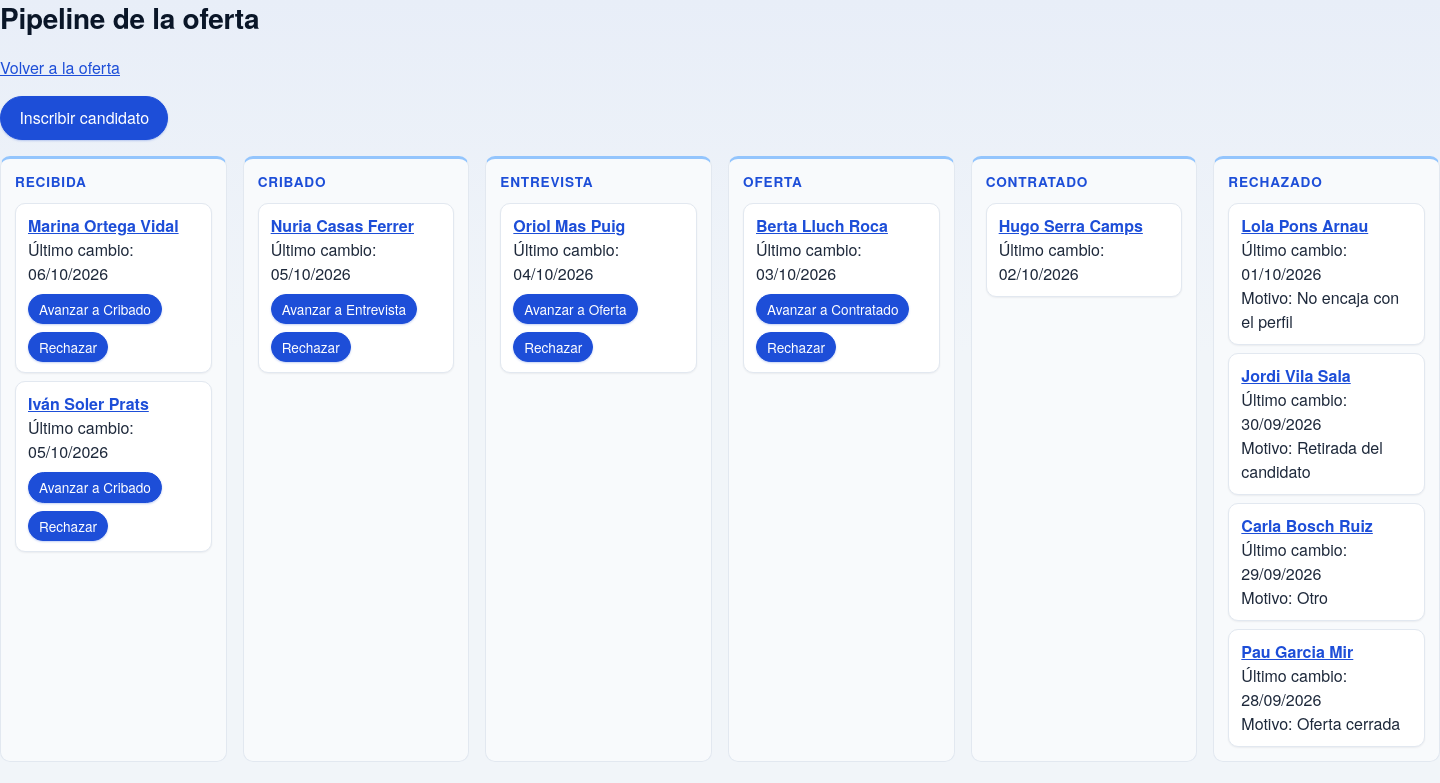
Test case: PipelineScreen: panel y búsqueda (RF-08) › «Buscar» envía la búsqueda y muestra «Buscando candidatos…» mientras responde
Click the button "Inscribir candidato".
click(84, 118)  # box [0,96,168,140]
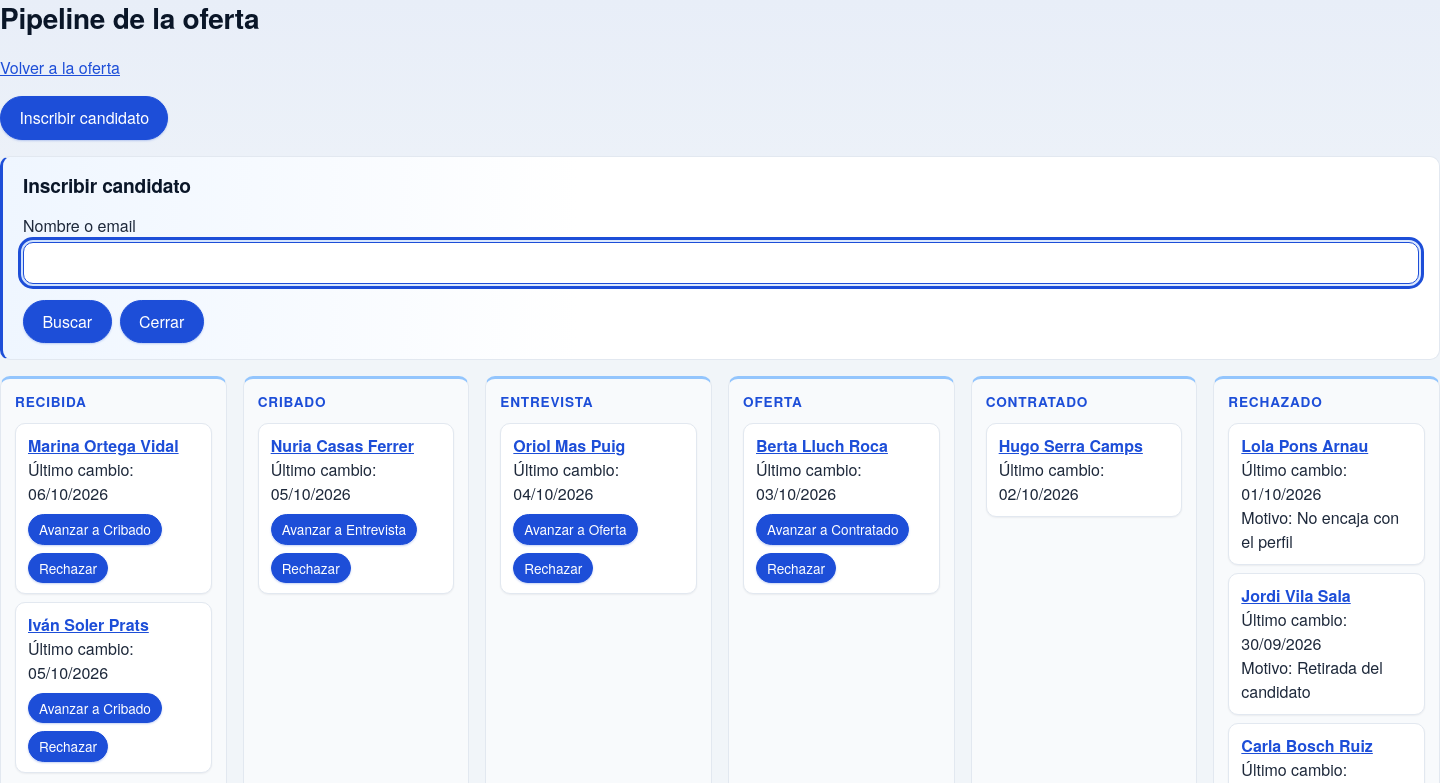
Type "ana" into the search field labelled "Nombre o email".
click(721, 263); type("ana")  # box [23,242,1419,284]
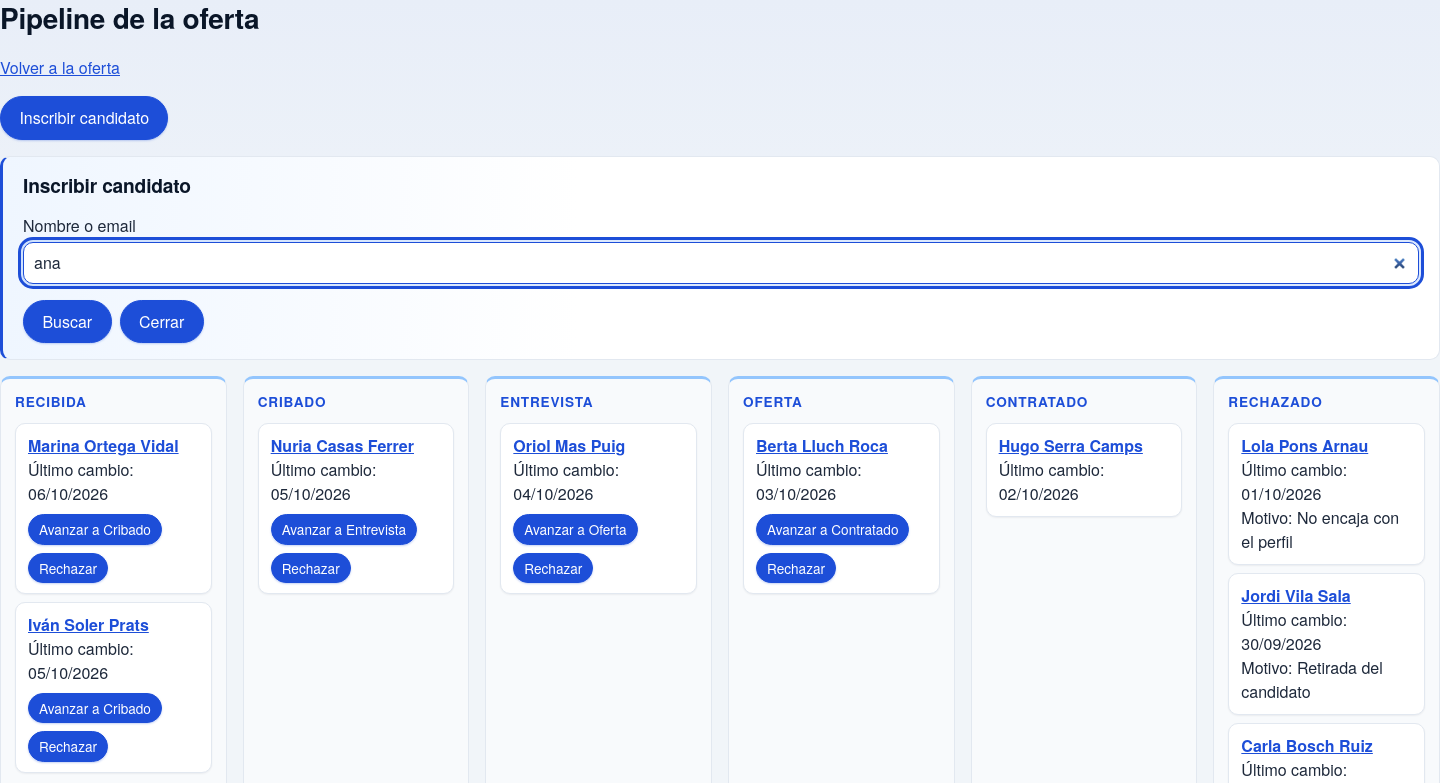
Click the button "Buscar".
click(67, 322)  # box [23,300,112,344]
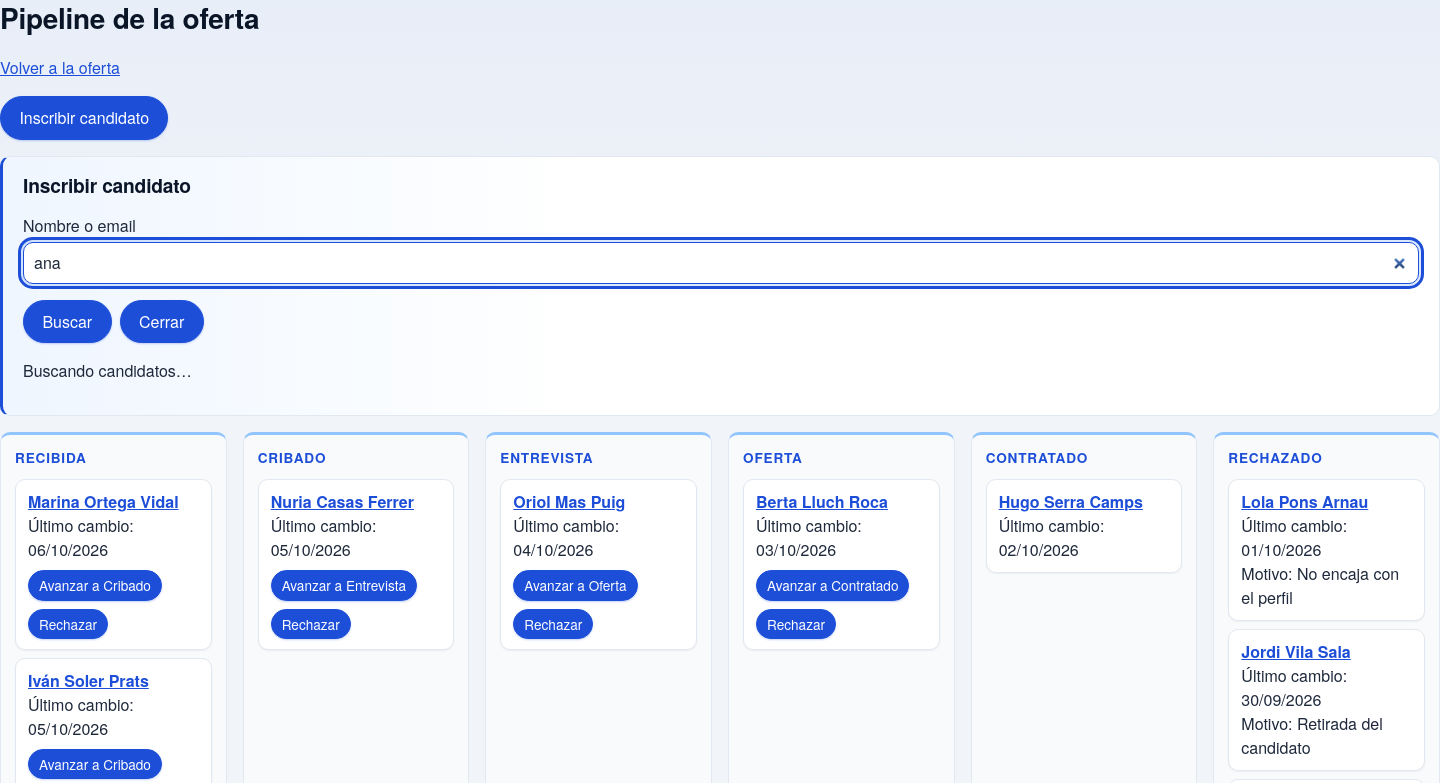
Result: the message reads "Buscando candidatos…" at [23,360,192,382]
